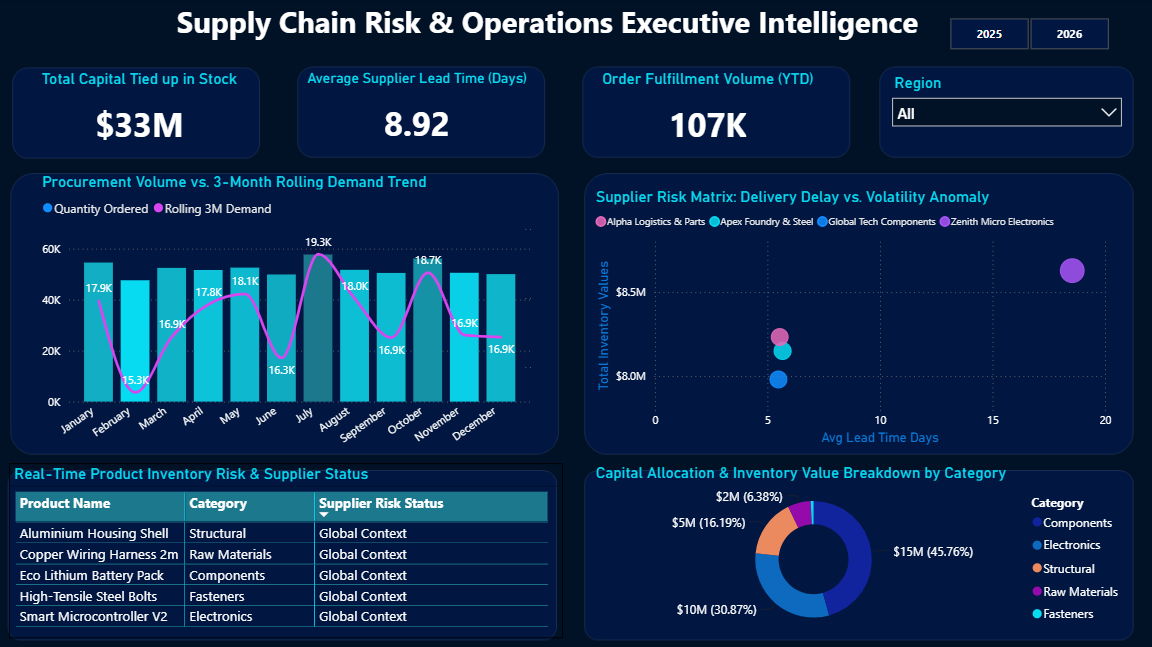

The dashboard page shown, as its layout file describes it:
{"tool":"powerbi","page":{"name":"Summary","canvas":[1280,720],"ordinal":0},"visuals":[{"type":"textbox","box":[176,0,864,64],"z":0},{"type":"cardVisual","title":"Total Capital Tied up in Stock","fields":{"Data":["_Calculated_Measures.Total_Inventory_Values"]},"box":[32,80,256,96],"z":1000},{"type":"cardVisual","title":"Average Supplier Lead Time (Days)","fields":{"Data":["_Calculated_Measures.Avg_Lead_Time_Days"]},"box":[336,80,256,96],"z":2000},{"type":"cardVisual","title":"Order Fulfillment Volume (YTD)","fields":{"Data":["_Calculated_Measures.Item_Sold_YTD"]},"box":[640,80,288,96],"z":3000},{"type":"lineStackedColumnComboChart","title":"Procurement Volume vs. 3-Month Rolling Demand Trend","fields":{"Category":["Dim_Calendar.Month_Name"],"Y":["Sum(Fact_Inventory_Movements.Quantity_Ordered)"],"Y2":["_Calculated_Measures.Rolling_3M_Demand"]},"box":[48,192,576,320],"z":4000},{"type":"tableEx","title":"Real-Time Product Inventory Risk & Supplier Status","fields":{"Values":["Dim_Products.Product_Name","Dim_Products.Category","_Calculated_Measures.Supplier_Risk_Status"]},"box":[16,512,608,192],"z":6000},{"type":"slicer","fields":{"Values":["Dim_Calendar.Year"]},"box":[1024,16,224,48],"z":7000},{"type":"slicer","fields":{"Values":["Dim_Suppliers.Region"]},"box":[976,80,272,96],"z":8000},{"type":"donutChart","title":"Capital Allocation & Inventory Value Breakdown by Category","fields":{"Category":["Dim_Products.Category"],"Y":["_Calculated_Measures.Total_Inventory_Values"]},"box":[656,512,592,192],"z":9000},{"type":"scatterChart","title":"Supplier Risk Matrix: Delivery Delay vs. Volatility Anomaly","fields":{"Category":["Dim_Suppliers.Supplier_Name"],"X":["_Calculated_Measures.Avg_Lead_Time_Days"],"Y":["_Calculated_Measures.Total_Inventory_Values"],"Series":["Dim_Suppliers.Supplier_Name"],"Size":["_Calculated_Measures.Lead_Time_SD"]},"box":[656,208,576,288],"z":10000}]}

Visuals, with their boxes in screenshot pixels (x1, y1, x2, y2), scaled from the page's 1280x720 canvas onto the 1152x647 screenshot:
textbox: <bbox>158, 0, 936, 58</bbox>
"Total Capital Tied up in Stock" cardVisual: <bbox>29, 72, 259, 158</bbox>
"Average Supplier Lead Time (Days)" cardVisual: <bbox>302, 72, 533, 158</bbox>
"Order Fulfillment Volume (YTD)" cardVisual: <bbox>576, 72, 835, 158</bbox>
"Procurement Volume vs. 3-Month Rolling Demand Trend" lineStackedColumnComboChart: <bbox>43, 173, 562, 460</bbox>
"Real-Time Product Inventory Risk & Supplier Status" tableEx: <bbox>14, 460, 562, 633</bbox>
slicer - Dim_Calendar.Year: <bbox>922, 14, 1123, 58</bbox>
slicer - Dim_Suppliers.Region: <bbox>878, 72, 1123, 158</bbox>
"Capital Allocation & Inventory Value Breakdown by Category" donutChart: <bbox>590, 460, 1123, 633</bbox>
"Supplier Risk Matrix: Delivery Delay vs. Volatility Anomaly" scatterChart: <bbox>590, 187, 1109, 446</bbox>
